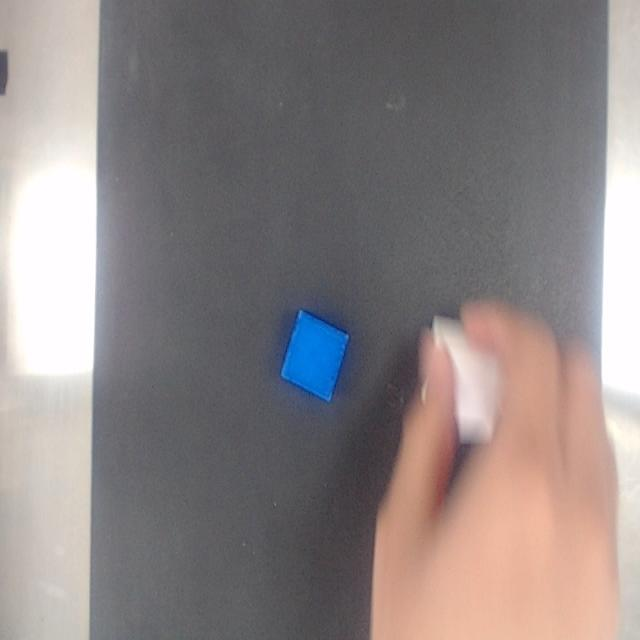Azul: (280, 309, 349, 403)
